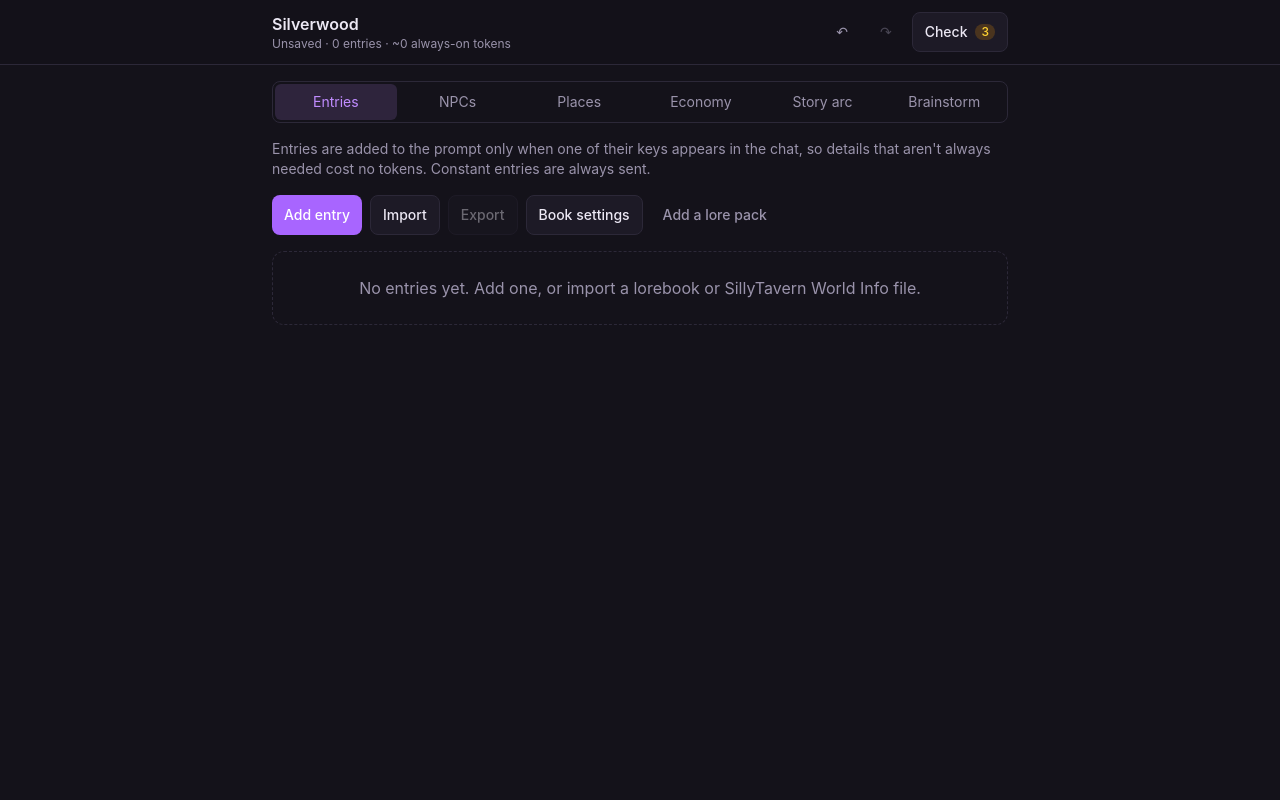
Test: NPC roster › adds NPCs the co-writer pitches
The width and height of the screenshot is (1280, 800).
Click the tab "NPCs" at (458, 102), box 397,84 -> 518,120
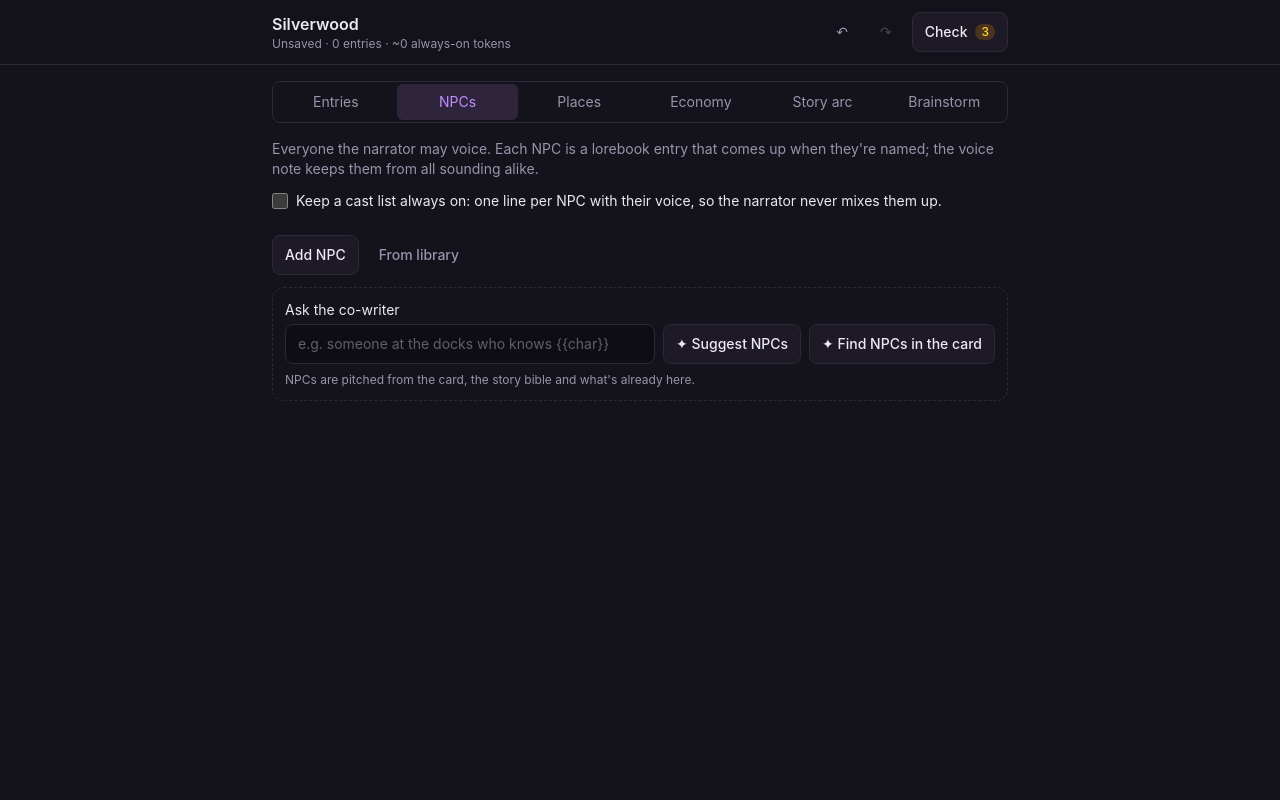
Type "someone at the docks" into the field labelled "Ask the co-writer" at (470, 344), box 285,324 -> 655,364
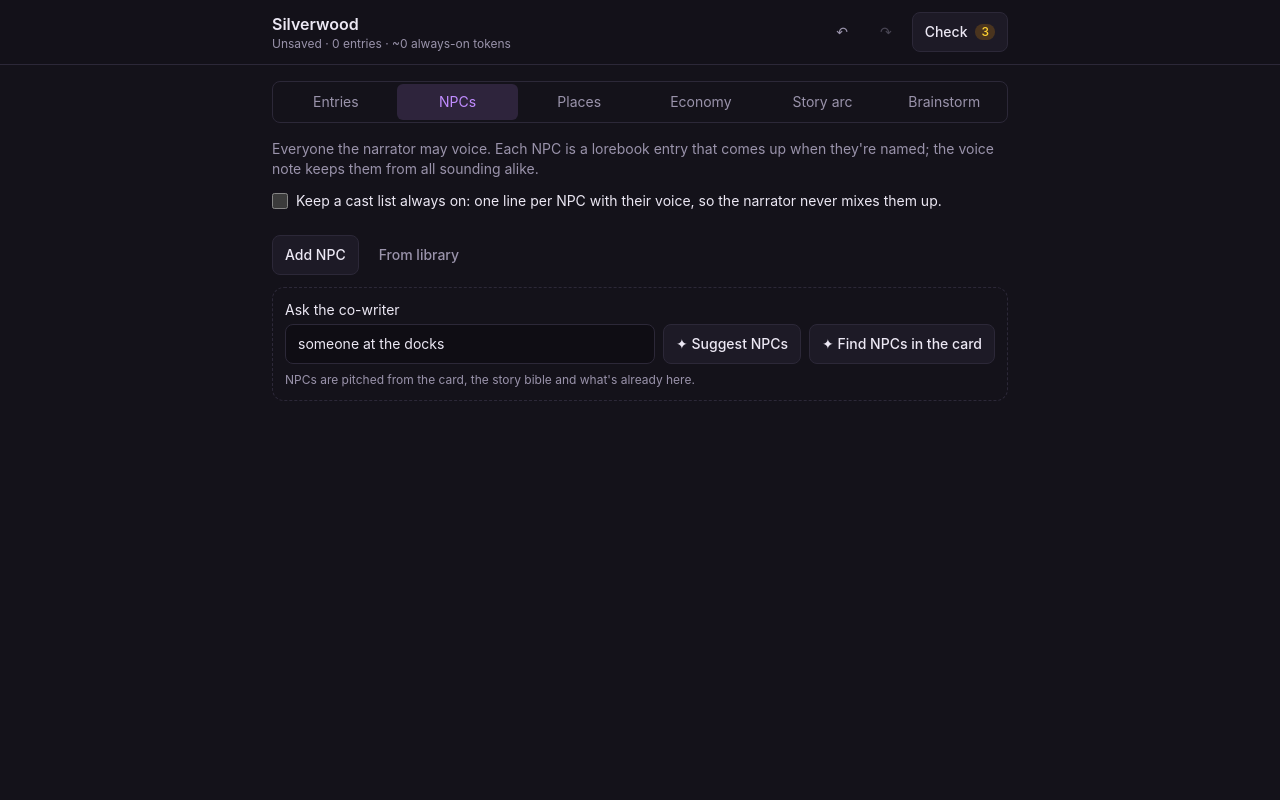
Click the button "✦ Suggest NPCs" at (732, 344), box 663,324 -> 801,364
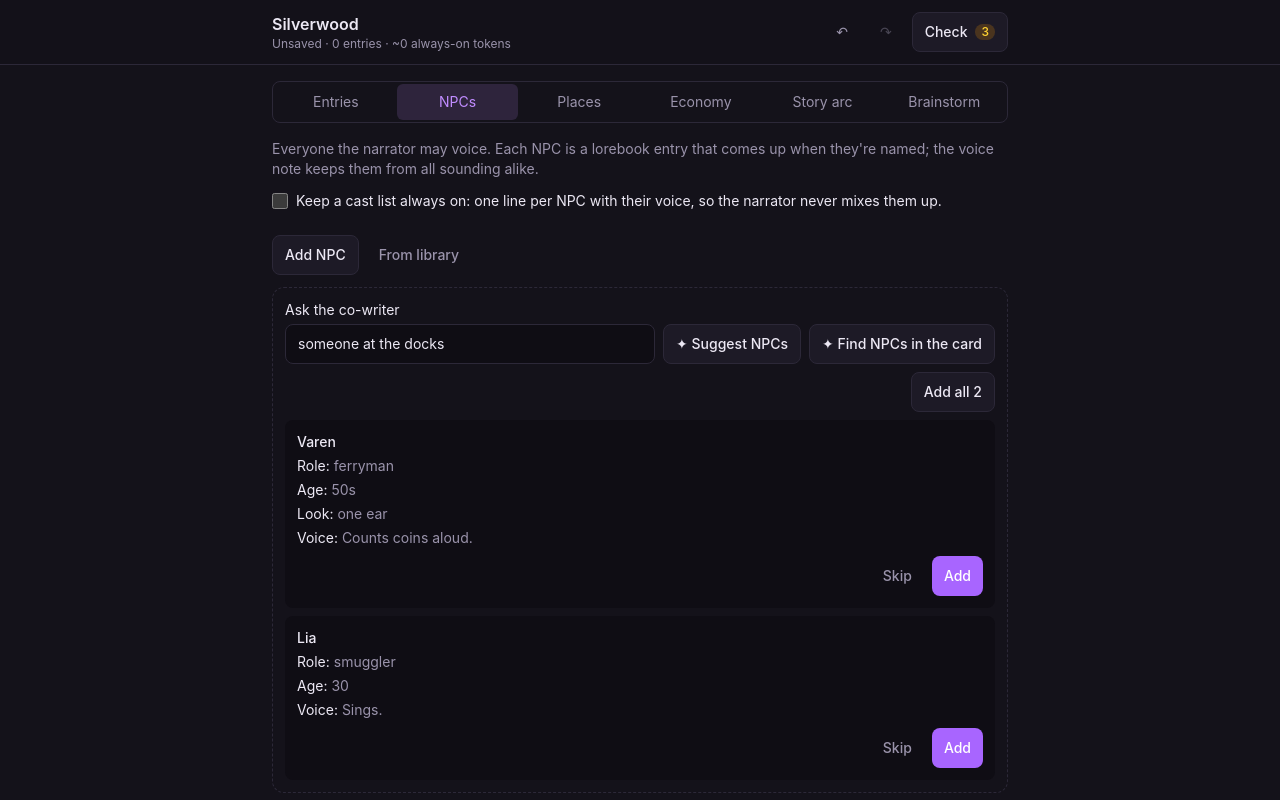
Click the button with aria-label "Add Varen" at (957, 576), box 932,556 -> 983,596
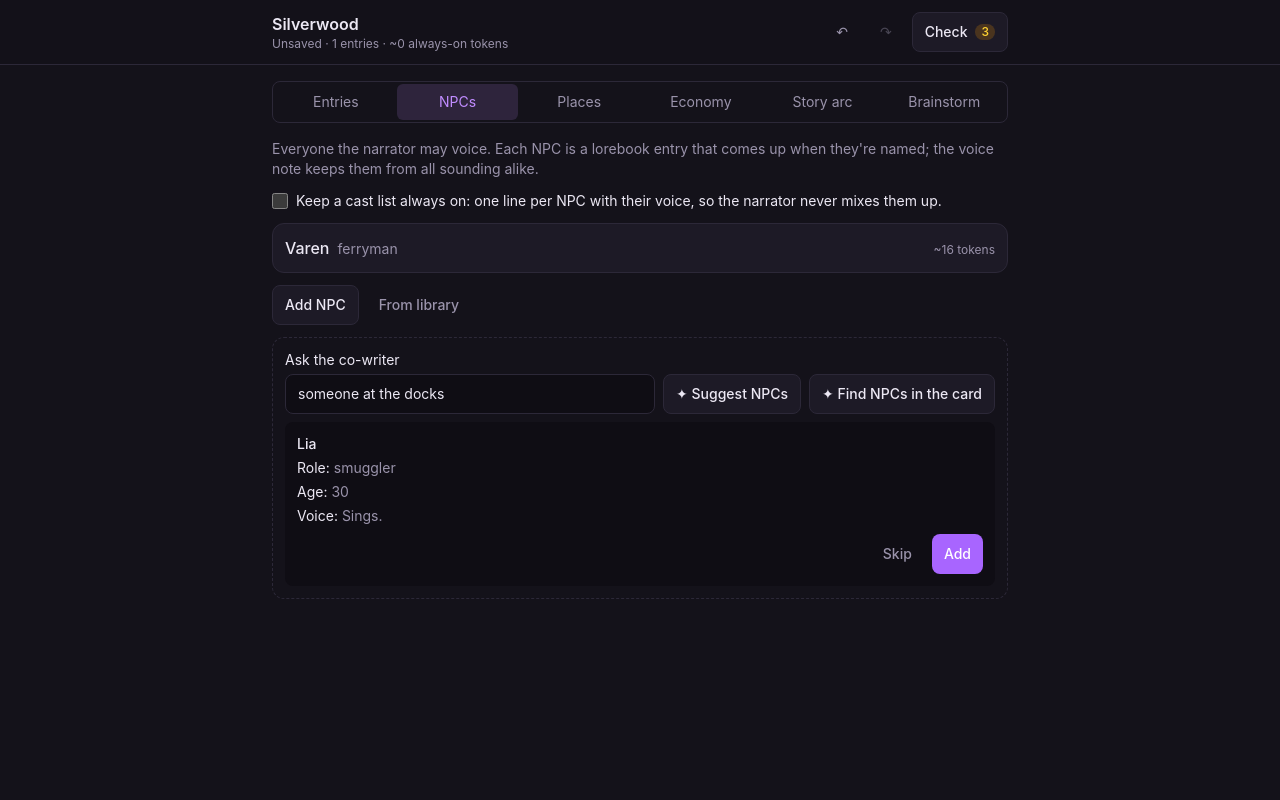
Expected: the button with aria-label "Add Lia" is shown, 932,534 -> 983,574
